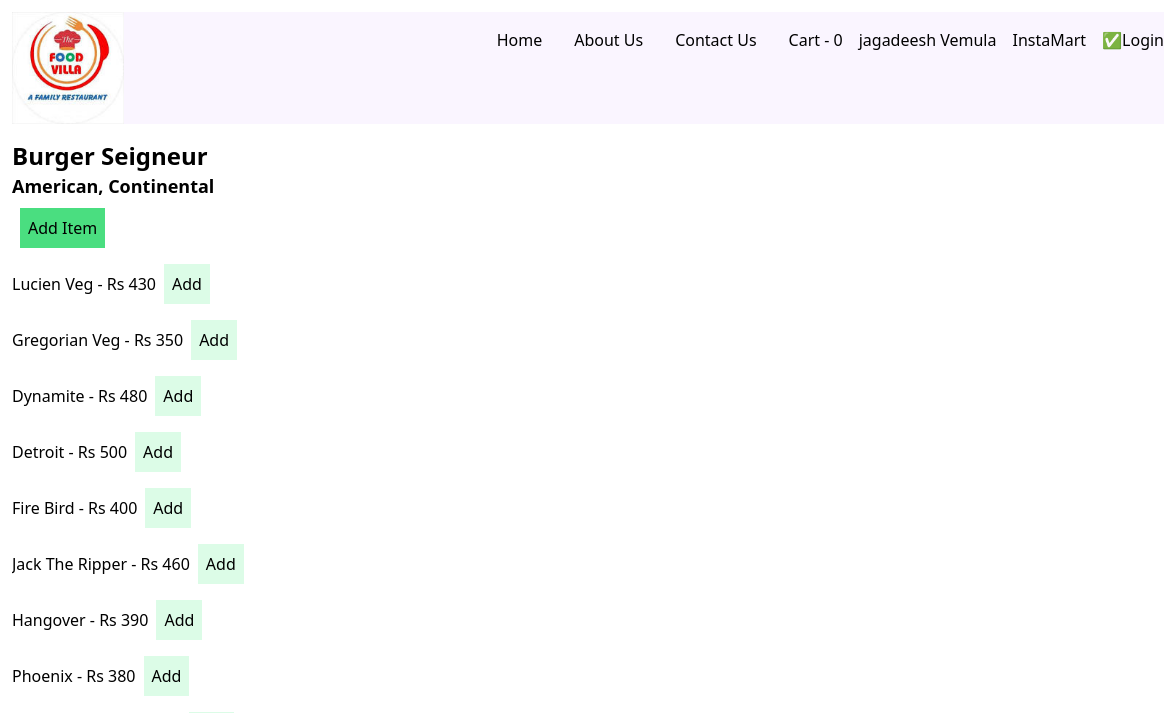
Test: should show Restraent Card on rendering card page
Click the button with test id "add-btn" in the row of "Lucien Veg": (187, 284) [164,264,210,304]
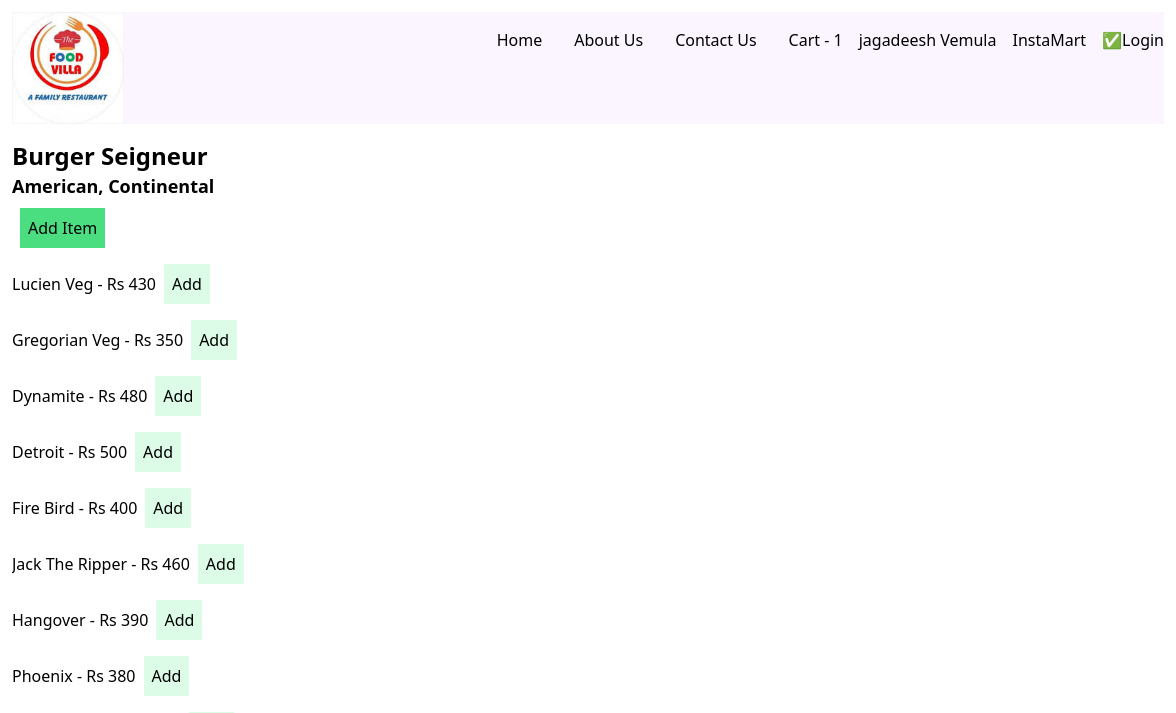
Click the button with test id "add-btn" in the row of "Gregorian Veg": (214, 340) [191,320,237,360]
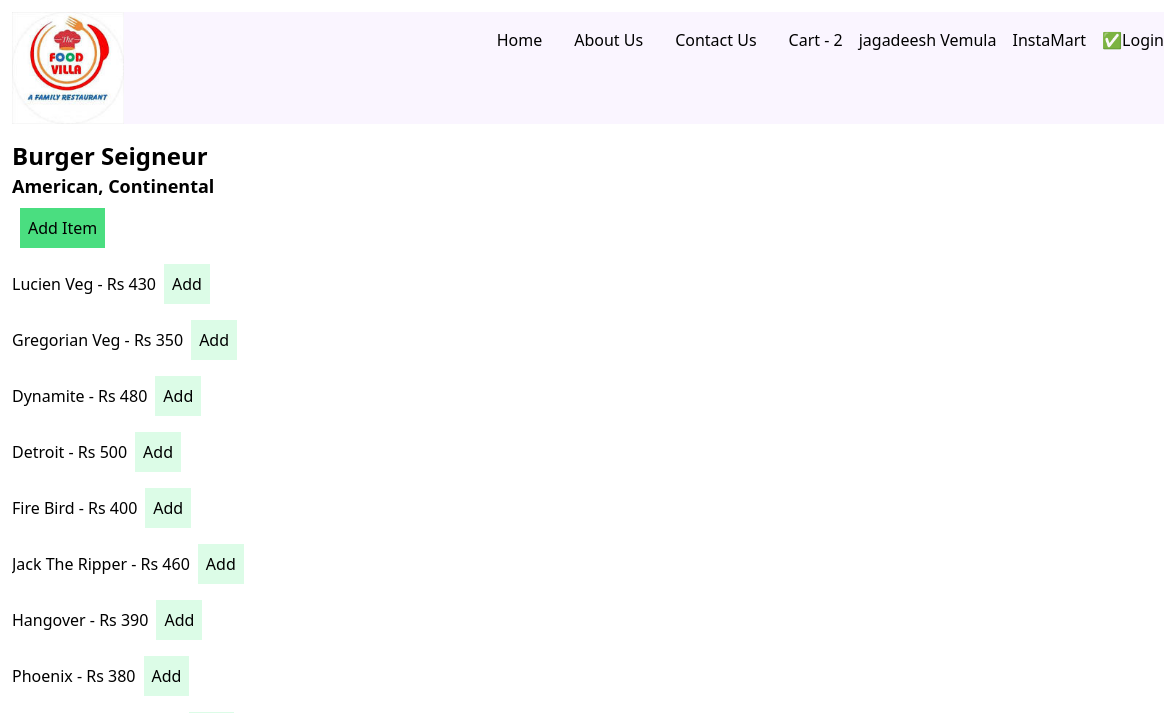
Now the link with test id "cart" reads "Cart - 2", box [789,29,843,51]
